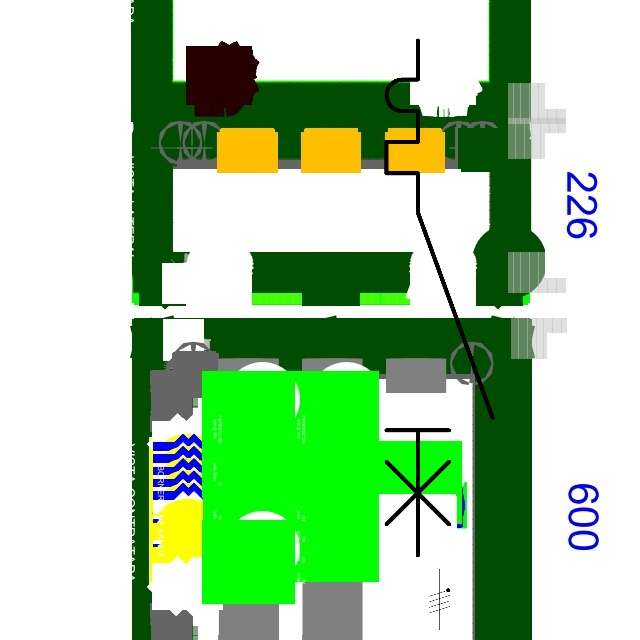interruptor_termomagnetico: (373, 27, 505, 568)
